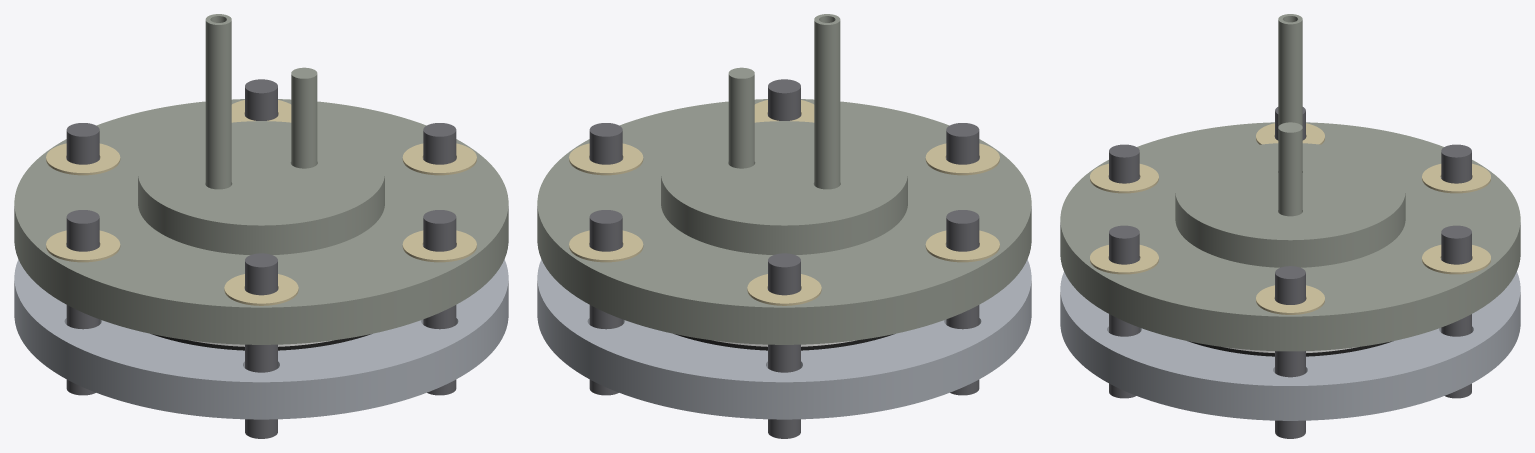
File: scell_r0.glb
3 views of the same model, side by side, from view 1: azimuth 30°, elevation 25°; view 2: azimuth 150°, elevation 25°; view 3: azimuth 270°, elevation 25° (orthographic). The views are drawn at different scales.
Parts seen in each view (by area): view 1: 05 cathode housing / + terminal (Ni 201), 12 anode housing / - terminal (SS 316L), 14 bolt M4x30 ISO 4762 A4-70 (with nut, Belleville stack) (×6), 16 mica washer (insulating, under bolt head) (×6), 09 fill tube (Ni 201, crimp + weld after infiltration), 10 thermocouple well (Ni 201, closed end), 11 anode-side gasket (graphite foil); view 2: 05 cathode housing / + terminal (Ni 201), 12 anode housing / - terminal (SS 316L), 14 bolt M4x30 ISO 4762 A4-70 (with nut, Belleville stack) (×6), 16 mica washer (insulating, under bolt head) (×6), 09 fill tube (Ni 201, crimp + weld after infiltration), 10 thermocouple well (Ni 201, closed end), 11 anode-side gasket (graphite foil); view 3: 05 cathode housing / + terminal (Ni 201), 12 anode housing / - terminal (SS 316L), 14 bolt M4x30 ISO 4762 A4-70 (with nut, Belleville stack) (×5), 16 mica washer (insulating, under bolt head) (×6), 09 fill tube (Ni 201, crimp + weld after infiltration), 10 thermocouple well (Ni 201, closed end), 11 anode-side gasket (graphite foil).
Boxes of the visible parts, x1,y1,x2,y2 form: 05 cathode housing / + terminal (Ni 201): (14,99,508,344); 12 anode housing / - terminal (SS 316L): (14,259,508,419); 14 bolt M4x30 ISO 4762 A4-70 (with nut, Belleville stack) (×6): (66,79,456,438); 16 mica washer (insulating, under bolt head) (×6): (46,100,476,305); 09 fill tube (Ni 201, crimp + weld after infiltration): (205,14,231,189); 10 thermocouple well (Ni 201, closed end): (291,67,317,168); 11 anode-side gasket (graphite foil): (151,334,371,350); 05 cathode housing / + terminal (Ni 201): (537,99,1031,344); 12 anode housing / - terminal (SS 316L): (537,259,1031,419); 14 bolt M4x30 ISO 4762 A4-70 (with nut, Belleville stack) (×6): (589,79,979,438); 16 mica washer (insulating, under bolt head) (×6): (569,100,999,305); 09 fill tube (Ni 201, crimp + weld after infiltration): (814,14,840,189); 10 thermocouple well (Ni 201, closed end): (728,67,754,168); 11 anode-side gasket (graphite foil): (674,334,894,350); 05 cathode housing / + terminal (Ni 201): (1060,122,1520,351); 12 anode housing / - terminal (SS 316L): (1060,272,1520,420); 14 bolt M4x30 ISO 4762 A4-70 (with nut, Belleville stack) (×5): (1109,144,1471,438); 16 mica washer (insulating, under bolt head) (×6): (1090,123,1490,314); 09 fill tube (Ni 201, crimp + weld after infiltration): (1278,14,1302,126); 10 thermocouple well (Ni 201, closed end): (1278,122,1302,216); 11 anode-side gasket (graphite foil): (1187,341,1393,356).
Bounding box in the file's own units: 0.06 × 0.045 × 0.06.
